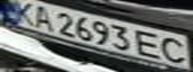2: (51, 9, 78, 38)
3: (109, 23, 136, 53)
6: (72, 15, 93, 43)
9: (90, 19, 112, 47)
A: (27, 2, 57, 30)
C: (157, 34, 193, 64)
E: (133, 28, 166, 60)
K: (6, 0, 39, 26)
